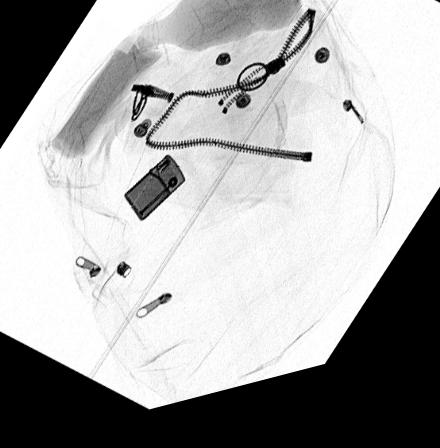Lighter: (121, 162, 186, 229)
